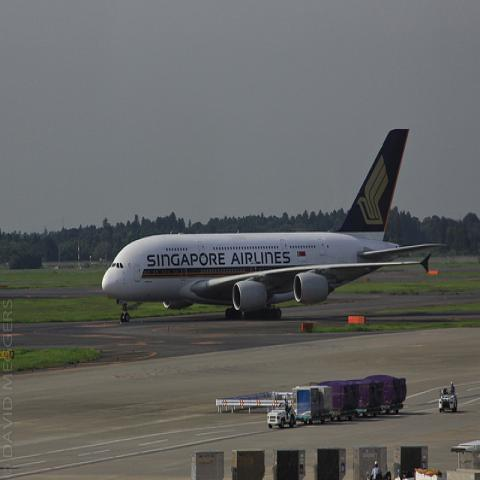car: (267, 402, 297, 428), (439, 389, 458, 413)
truck: (295, 384, 334, 427), (393, 444, 428, 479), (352, 444, 388, 478), (230, 446, 267, 479), (272, 446, 306, 479), (267, 404, 298, 430), (190, 450, 215, 474), (438, 387, 456, 413)
